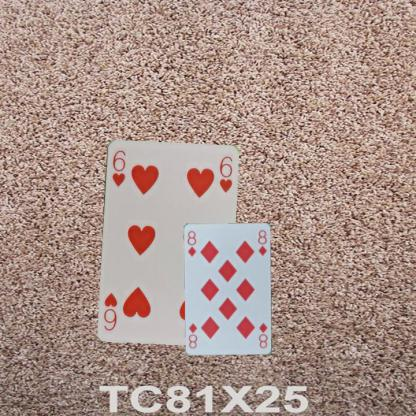6h: (109, 147, 127, 187)
8d: (185, 228, 197, 258), (257, 320, 268, 350)
